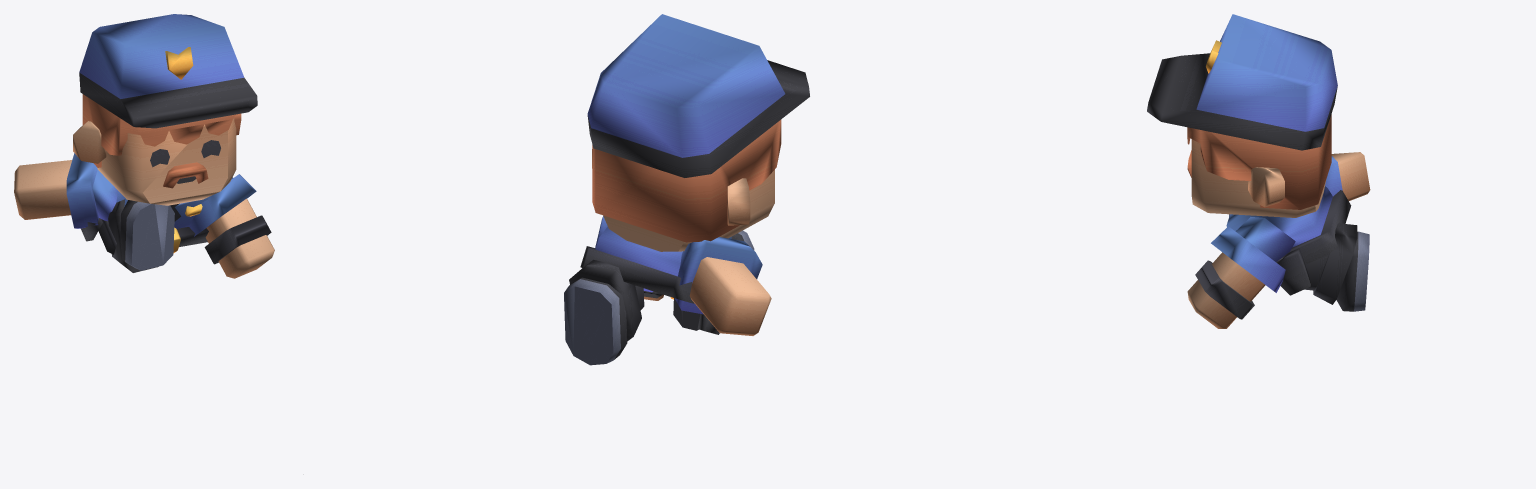
File: leader_sprint_6.glb
3 views of the same model, side by side, from view 1: azimuth 30°, elevation 25°; view 2: azimuth 150°, elevation 25°; view 3: azimuth 270°, elevation 25° (orthographic). The views are drawn at different scales.
Parts seen in each view (by area): view 1: leader-sprint-6; view 2: leader-sprint-6; view 3: leader-sprint-6.
Boxes of the visible parts, box(x1,y1,x2,y2) form: leader-sprint-6: box(14, 14, 274, 278); leader-sprint-6: box(564, 14, 809, 365); leader-sprint-6: box(1147, 14, 1370, 328).
Size of the model in its own units: 1.2 by 0.9516 by 1.2.
1 material, 1 textured.
